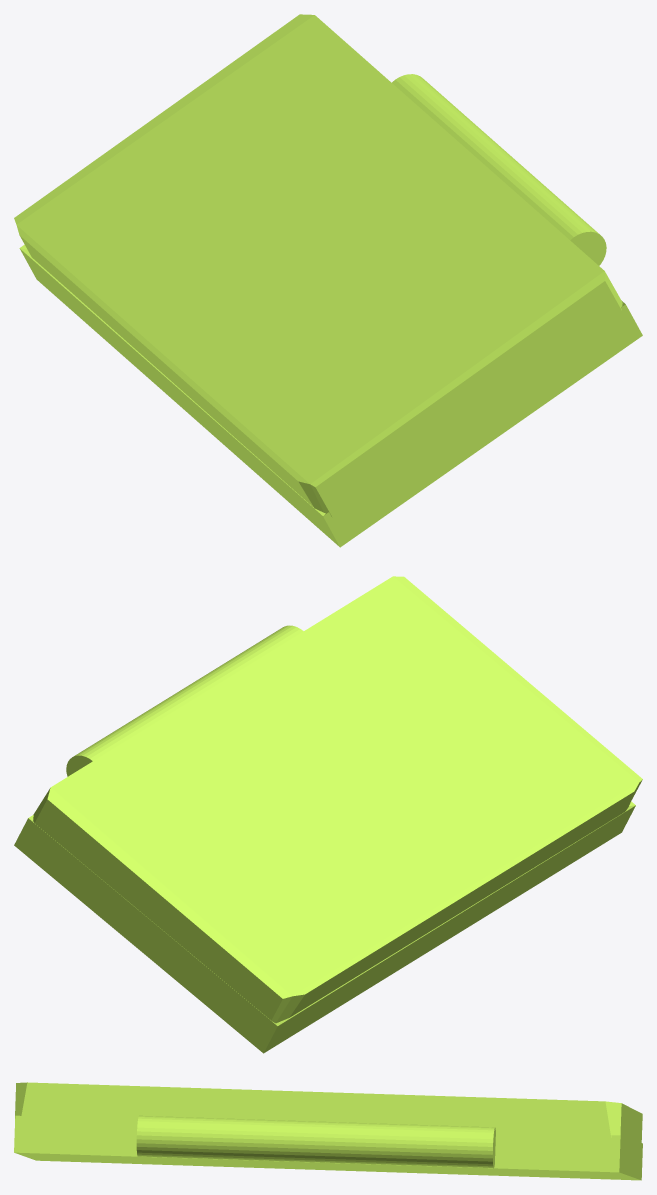
Rendered from ds-inactive.glb.
3 renders of one model, top to bottom at view 1: azimuth 30°, elevation 25°; view 2: azimuth 150°, elevation 25°; view 3: azimuth 270°, elevation 25°, orthographic. The views are drawn at different scales.
Visible parts, largest first — view 1: NDS_closed; view 2: NDS_closed; view 3: NDS_closed.
Boxes of the visible parts, x1,y1,x2,y2 form: NDS_closed: (14, 14, 642, 547); NDS_closed: (14, 576, 642, 1053); NDS_closed: (14, 1082, 642, 1180).
Bounding box in the file's own units: 0.3817 × 0.2084 × 0.6338.
